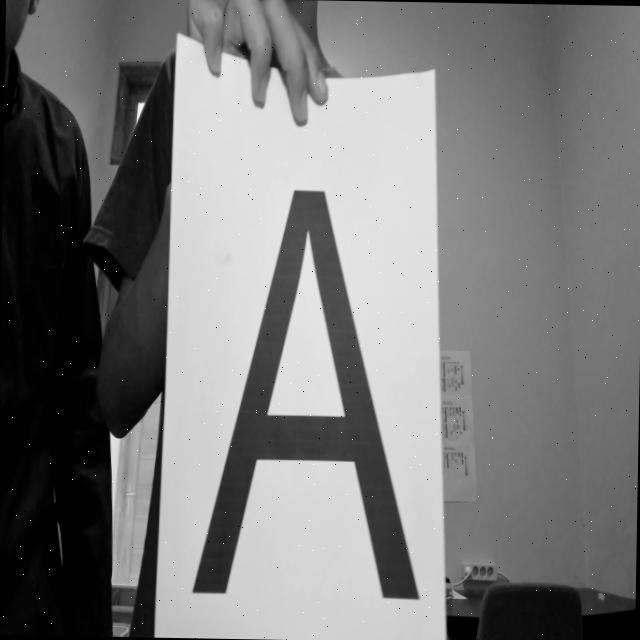a: (185, 159, 432, 627)
